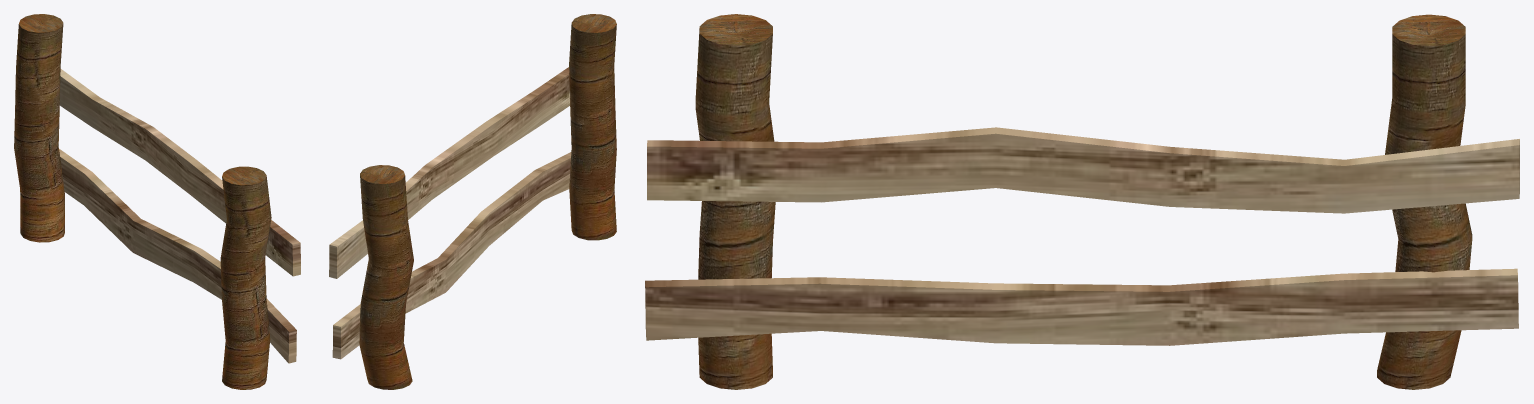
File: barrière basse.FBX
3 views of the same model, side by side, from view 1: azimuth 30°, elevation 25°; view 2: azimuth 150°, elevation 25°; view 3: azimuth 270°, elevation 25° (orthographic). The views are drawn at different scales.
Visible parts, largest first — view 1: Barrières droites; view 2: Barrières droites; view 3: Barrières droites.
Part boxes in pixels (x1,y1,x2,y2): Barrières droites: (14, 14, 300, 389); Barrières droites: (329, 14, 616, 389); Barrières droites: (645, 14, 1519, 389).
Size of the model in its own units: 18.64 by 59.94 by 137.
